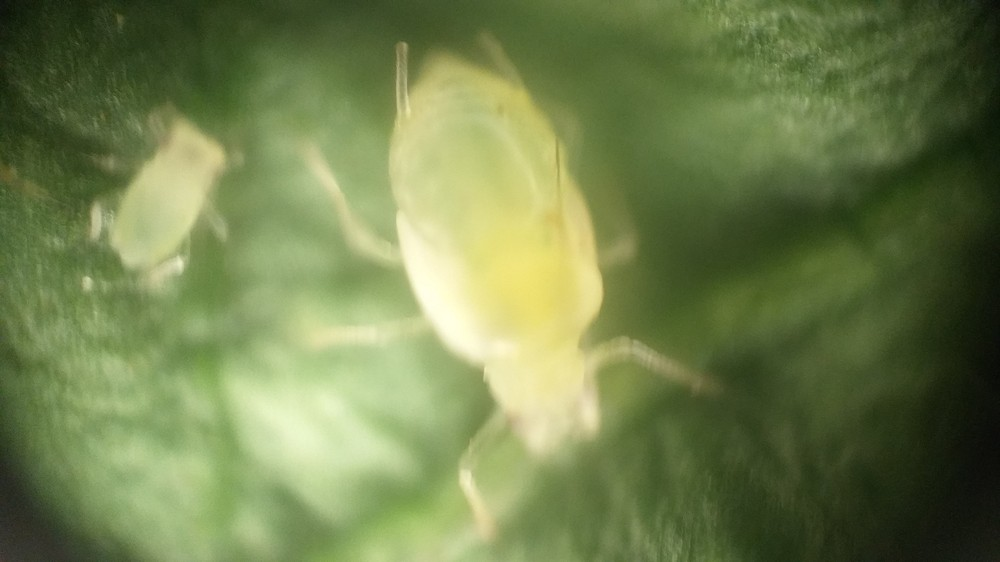Pulgon: (300, 37, 786, 542), (66, 83, 262, 316)
